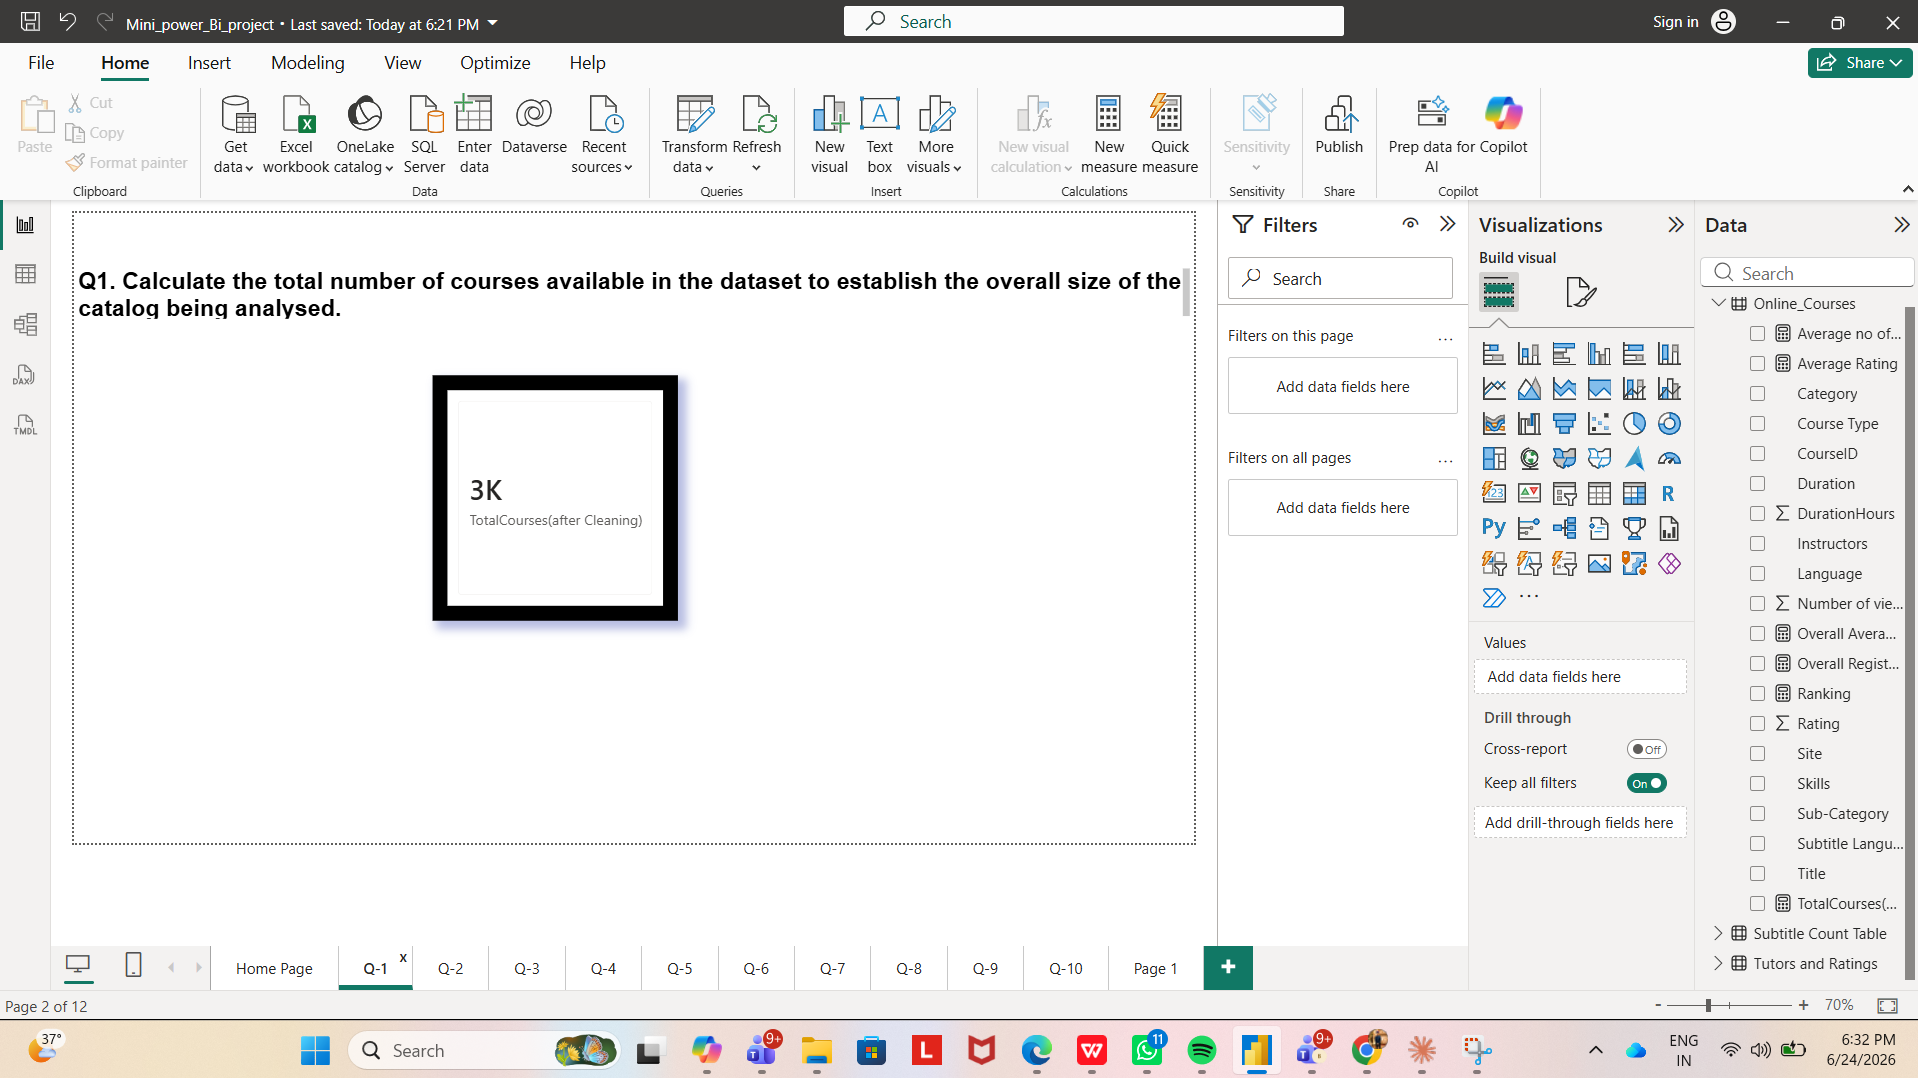

This screenshot's page, from the dashboard's own definition file:
{"tool":"powerbi","page":{"name":"Q-1","canvas":[1280,720],"ordinal":1},"visuals":[{"type":"cardVisual","fields":{"Data":["Online_Courses.TotalCourses"]},"box":[410,185,280,280],"z":0},{"type":"textbox","box":[0,59,1280.3,67.2],"z":1000}]}

Visuals, with their boxes on the page's 1280x720 design canvas (x1, y1, x2, y2). These are canvas units, not pixel positions in the 1918x1078 screenshot, which may show the page scaled, cropped or inside an application window:
cardVisual - Online_Courses.TotalCourses: region(410, 185, 690, 465)
textbox: region(0, 59, 1280, 126)
